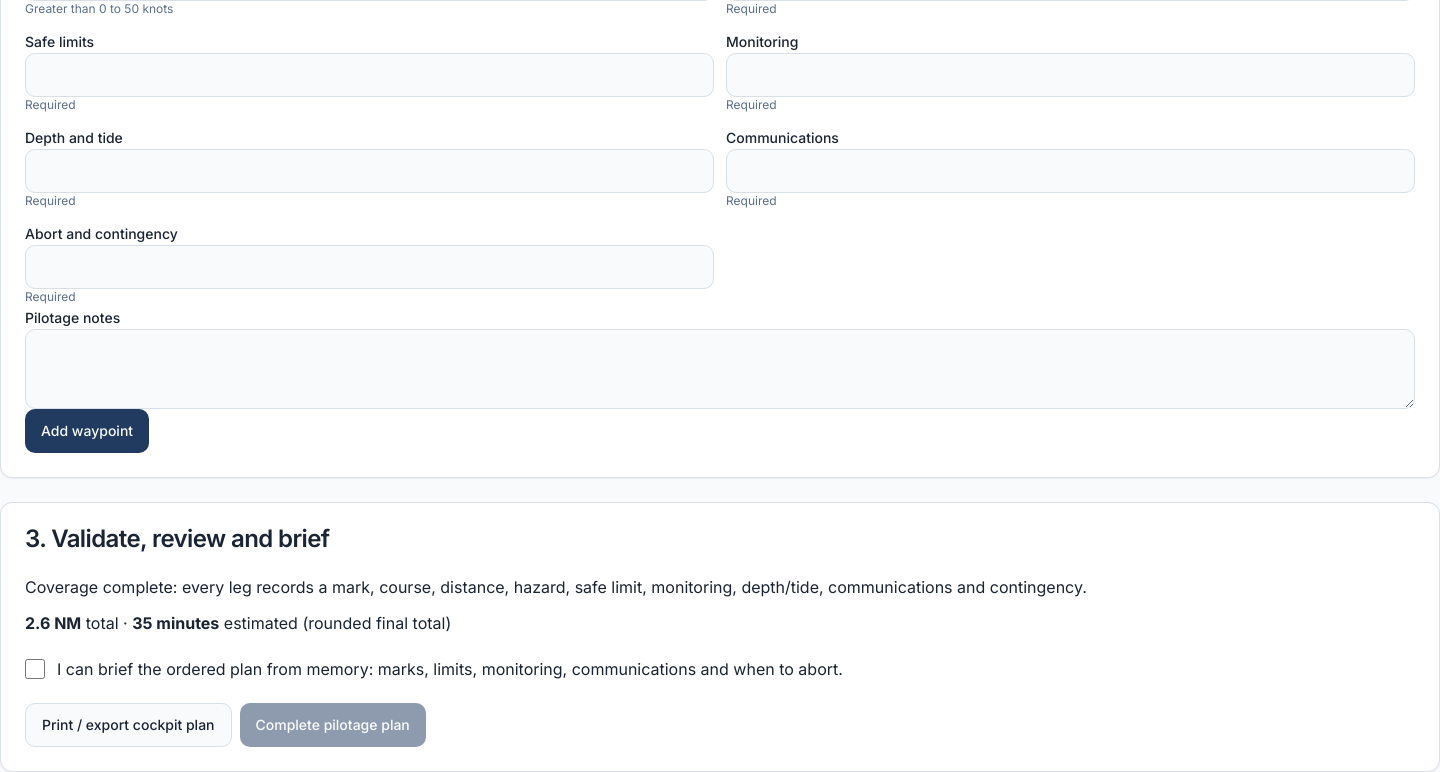
Test case: PilotagePlanBuilder completion › clears completed state after a waypoint is removed
(page scrolled)
Click the checkbox: click(35, 669) top-left (25, 659), bottom-right (45, 679)
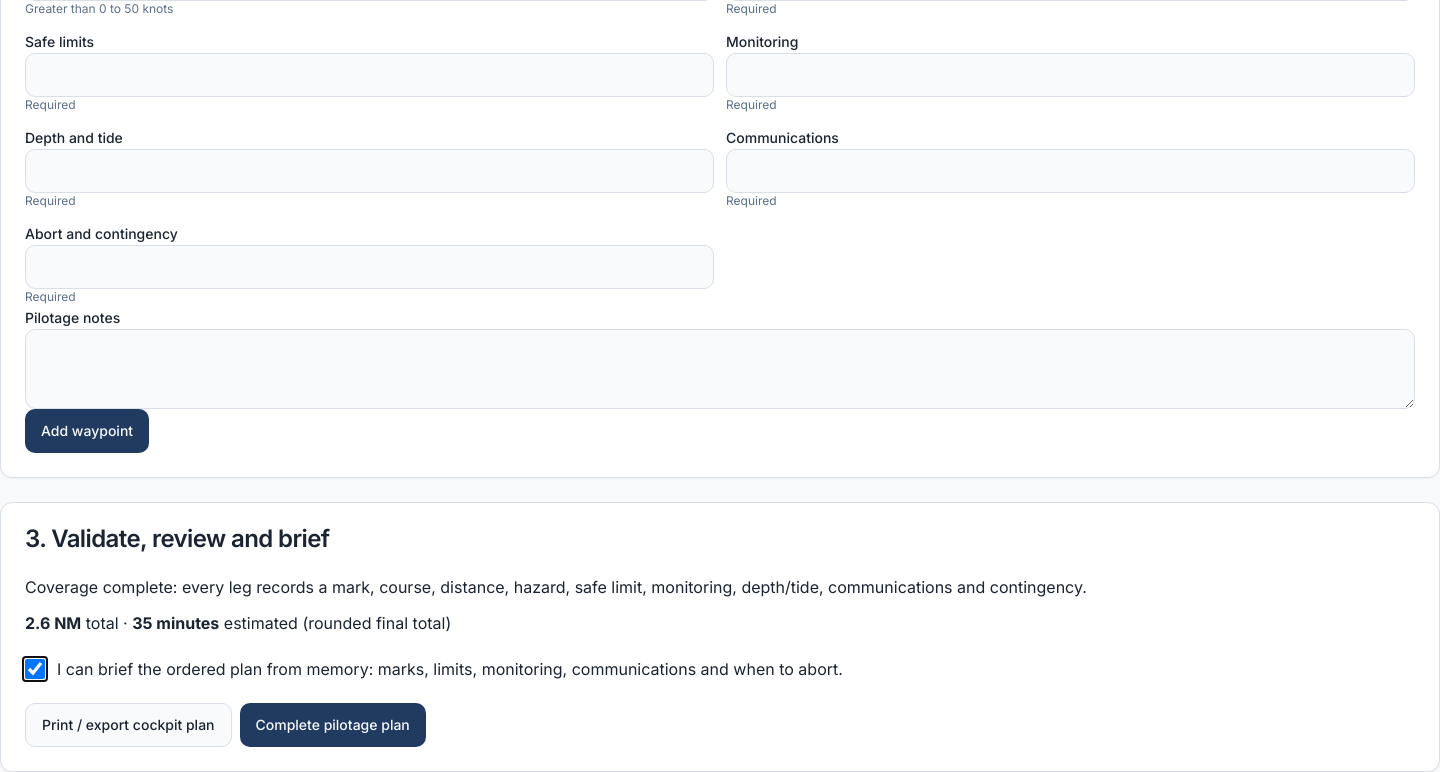
Click the button "Complete pilotage plan": click(333, 725) top-left (240, 703), bottom-right (426, 747)
(page scrolled)
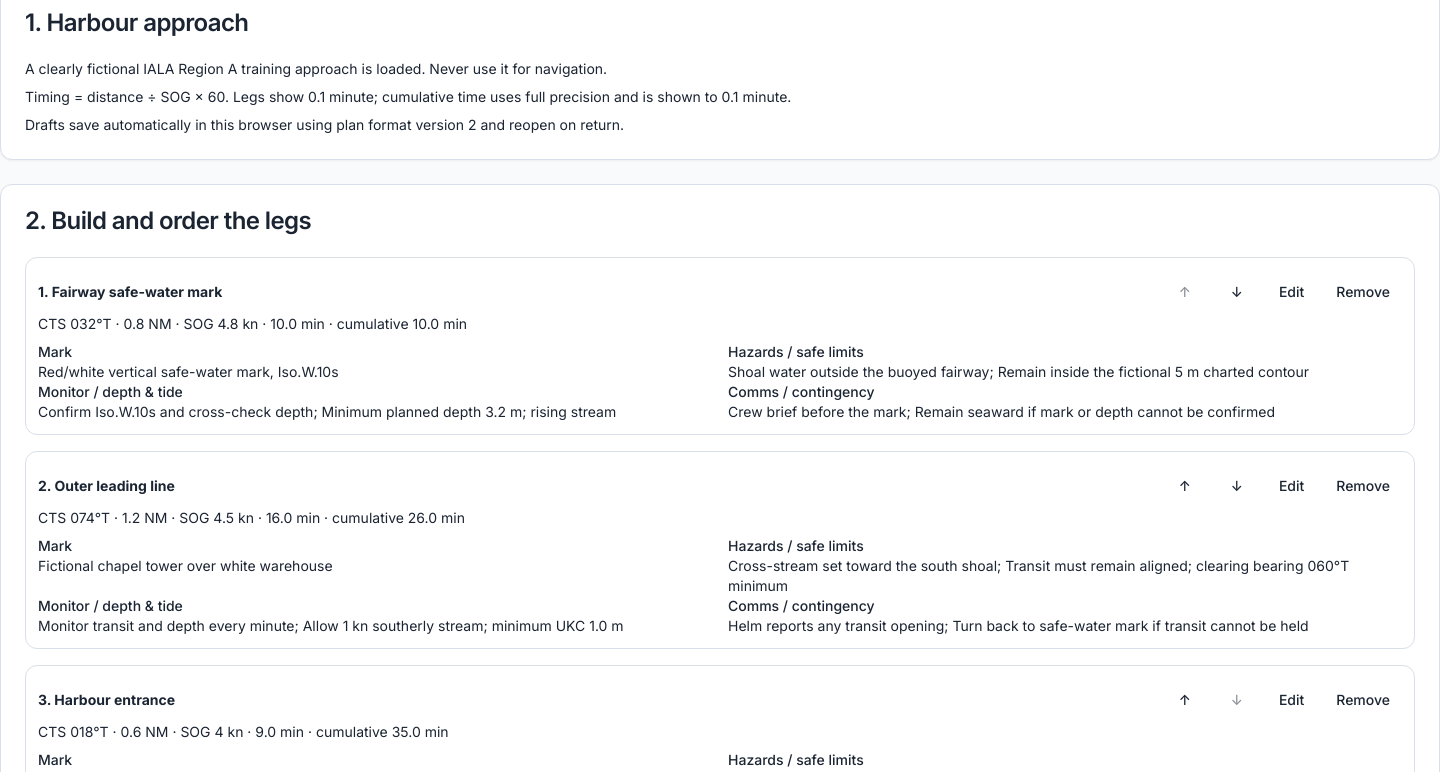
Click the button with aria-label "Remove leg": click(1363, 292) top-left (1324, 270), bottom-right (1402, 314)
(page scrolled)
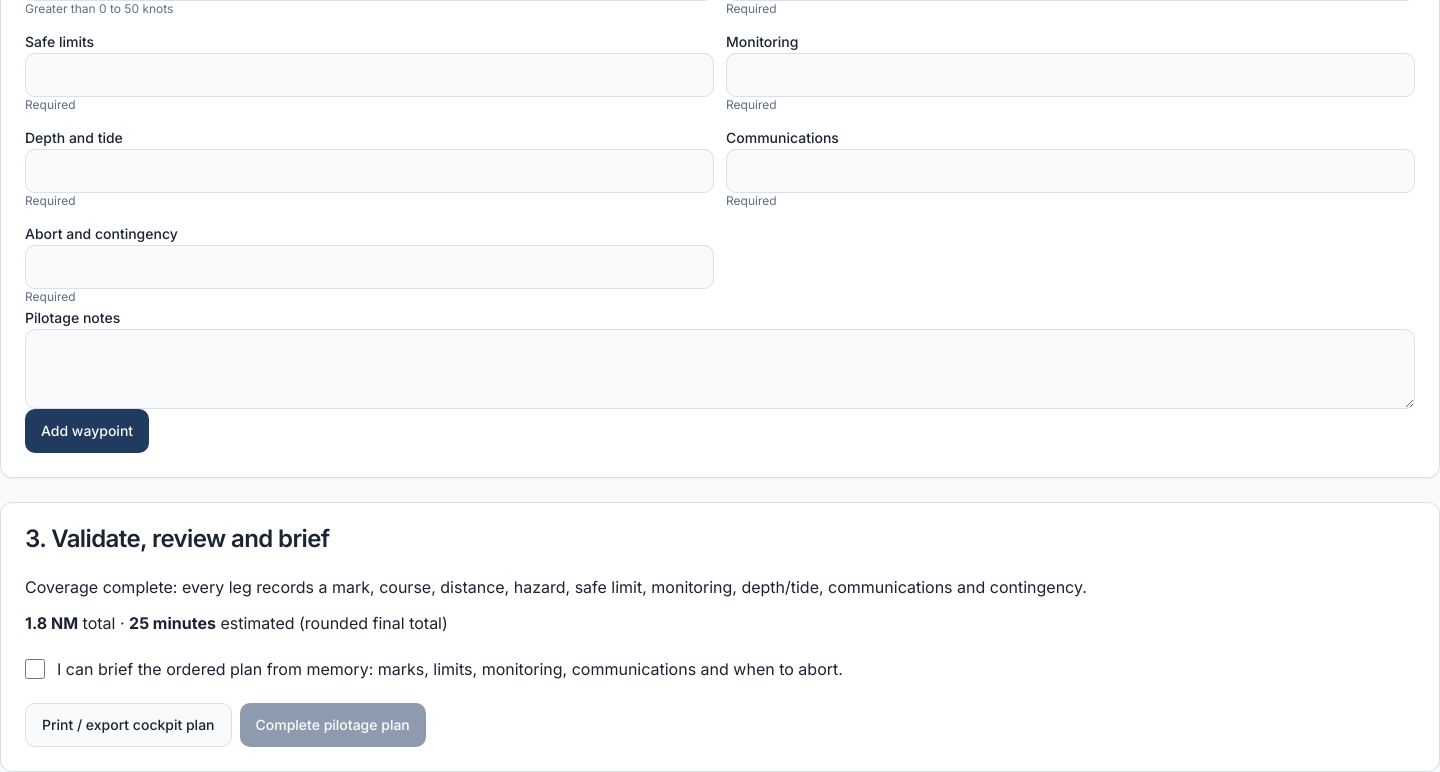
Expected: the checkbox is not checked
Expected: the button "Complete pilotage plan" is disabled, top-left (240, 703), bottom-right (426, 747)
Click the checkbox: click(35, 669) top-left (25, 659), bottom-right (45, 679)
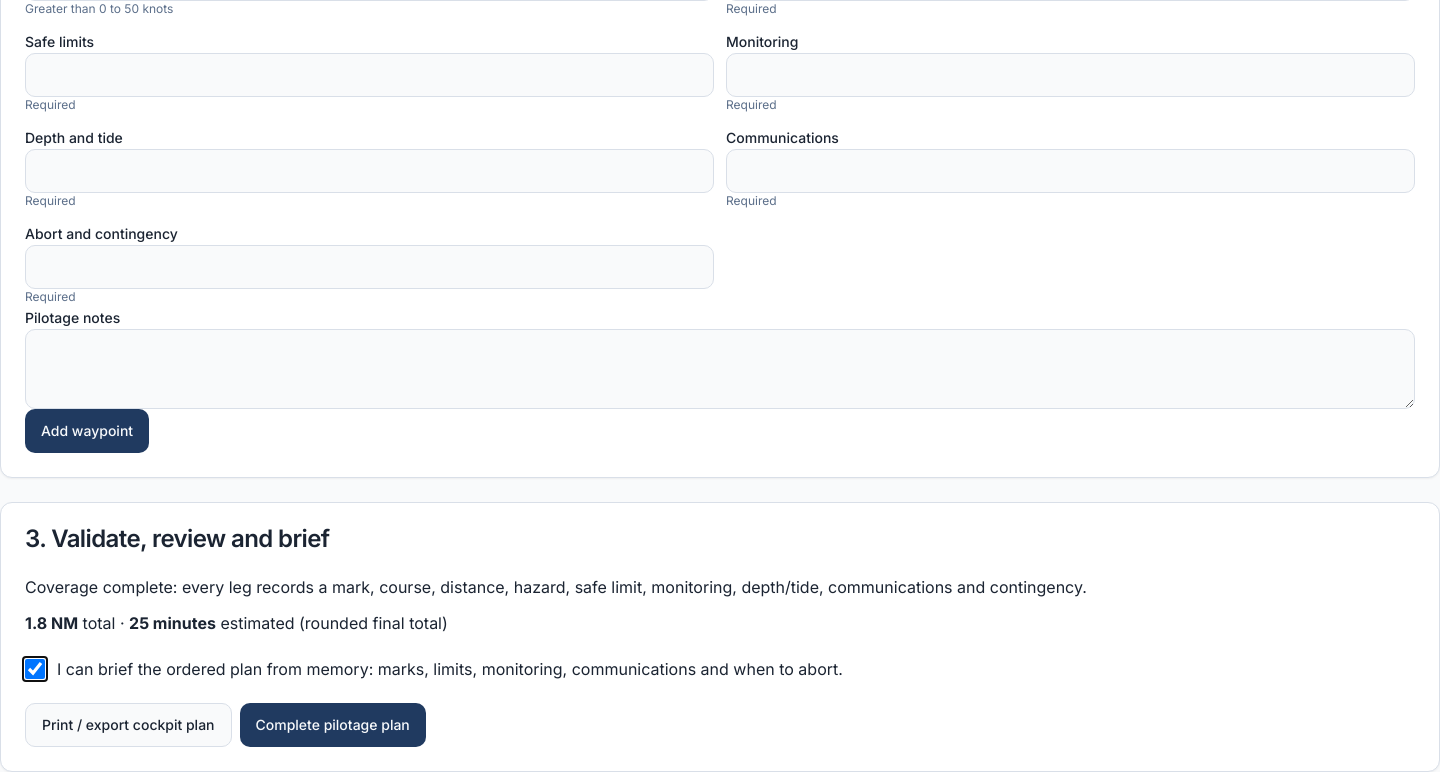
Expected: the button "Complete pilotage plan" is enabled, top-left (240, 703), bottom-right (426, 747)
